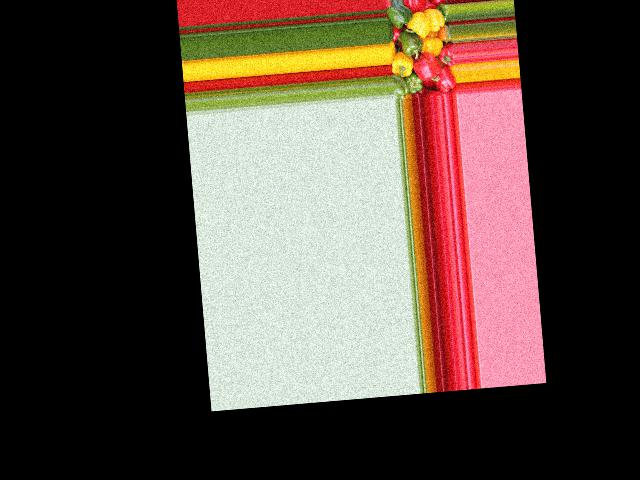bell_pepper: (438, 3, 451, 25)
